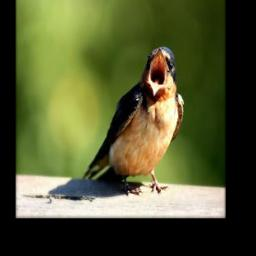Swallow: (81, 45, 185, 196)
